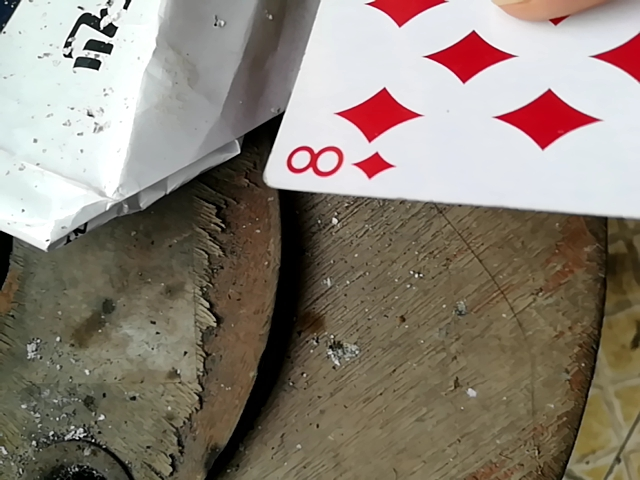fk 8: (260, 0, 635, 238)
